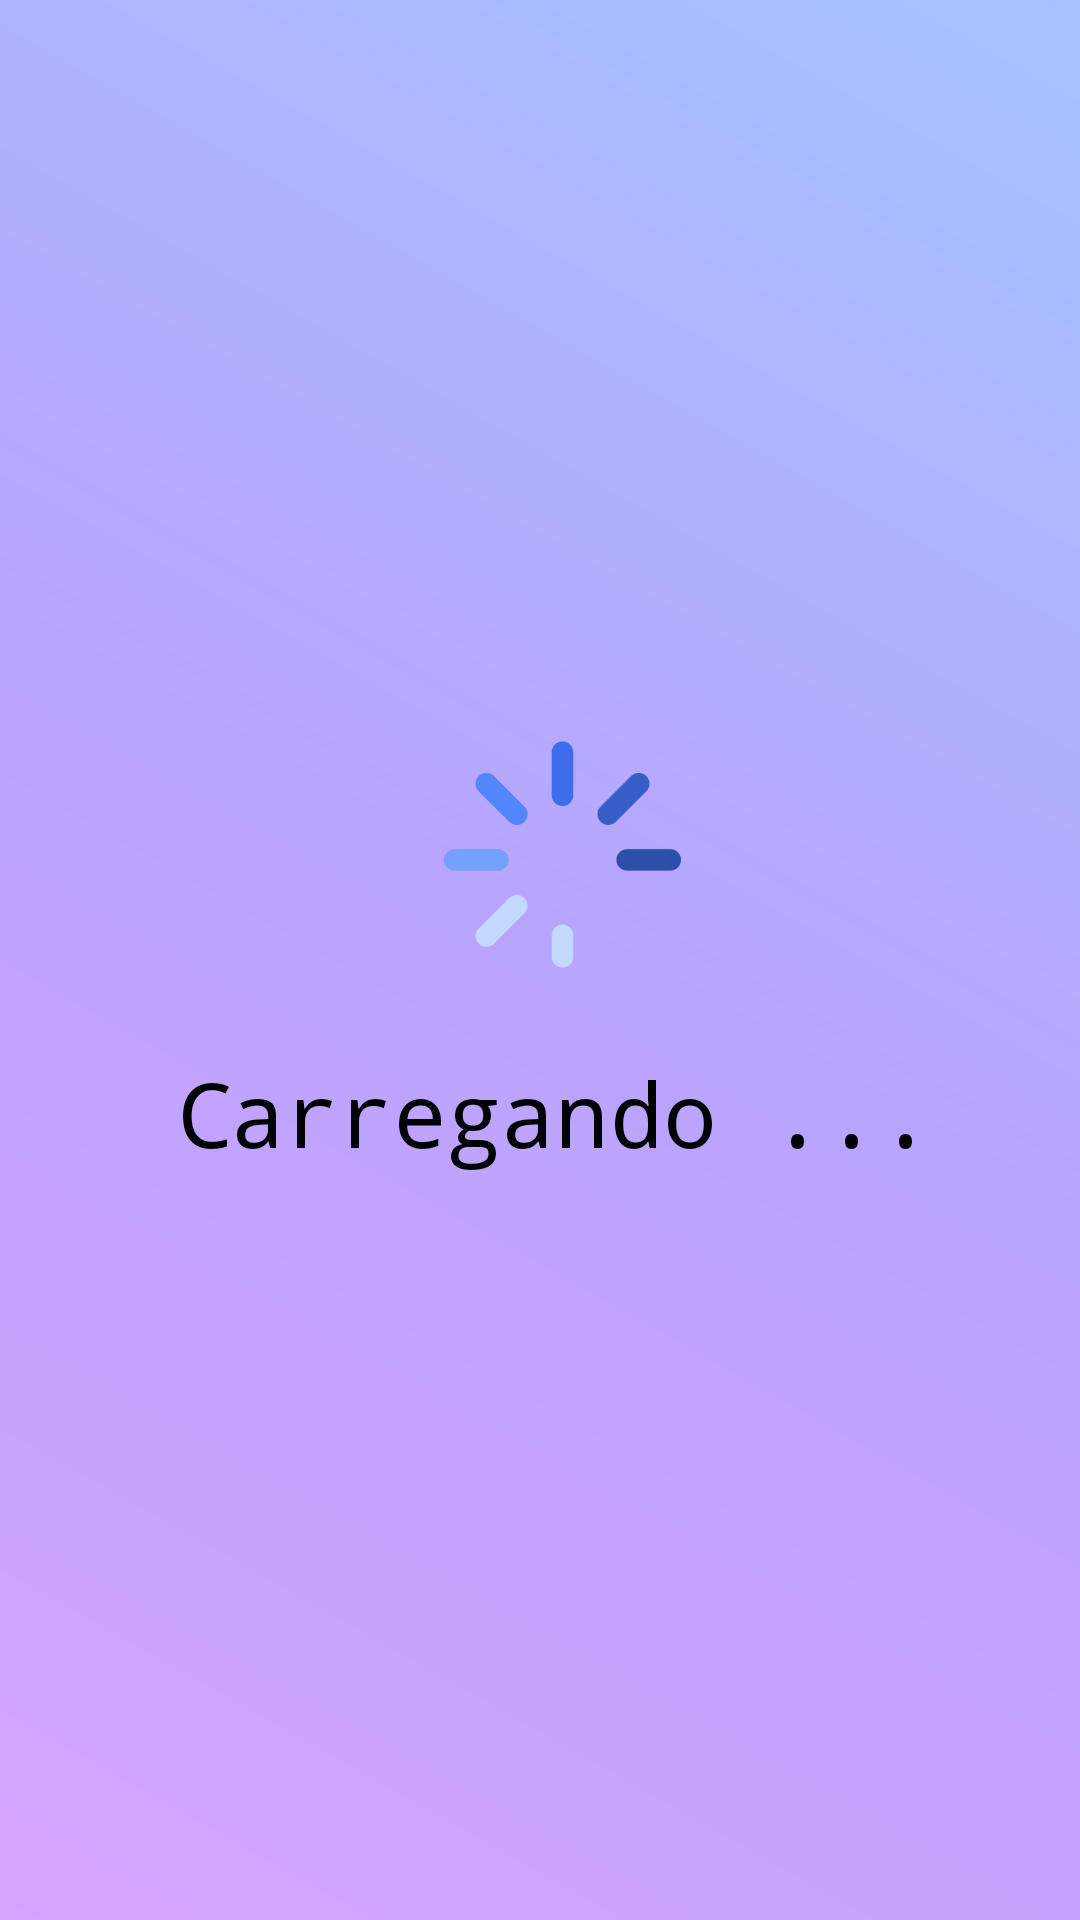

Screen size 1080w x 1920h. Icon name, then its center in pixels as point (x, y):
loading: point (562, 854)
